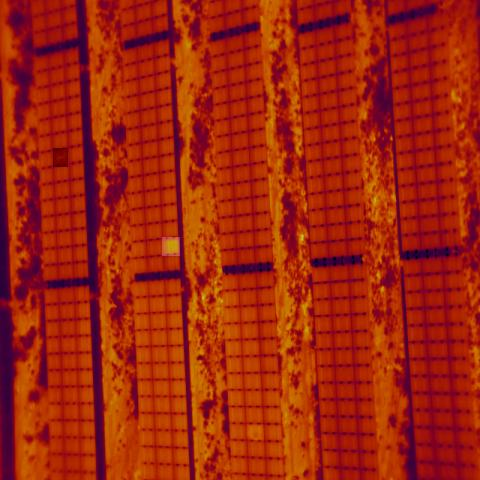fault: (162, 237, 180, 256), (246, 424, 264, 441), (53, 148, 68, 167)
